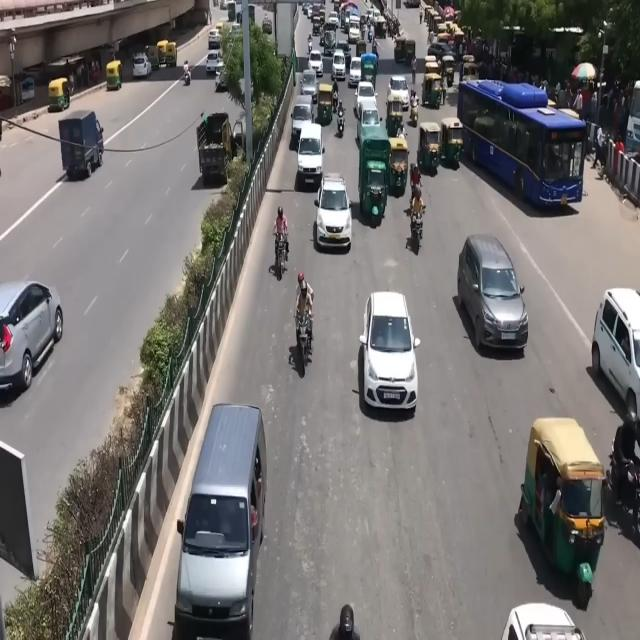auto: (520, 417, 605, 584), (58, 110, 105, 180), (388, 135, 410, 196), (418, 121, 442, 175), (441, 118, 465, 170), (421, 70, 444, 111), (385, 95, 406, 138), (316, 82, 335, 127), (48, 78, 70, 112), (440, 53, 456, 87), (461, 56, 479, 84), (106, 61, 122, 91), (146, 44, 161, 71), (164, 41, 177, 67), (157, 40, 170, 66), (404, 39, 416, 65)
bike-auto: (296, 274, 316, 350), (273, 206, 289, 263), (336, 101, 346, 136), (181, 57, 192, 88), (409, 90, 419, 122)
